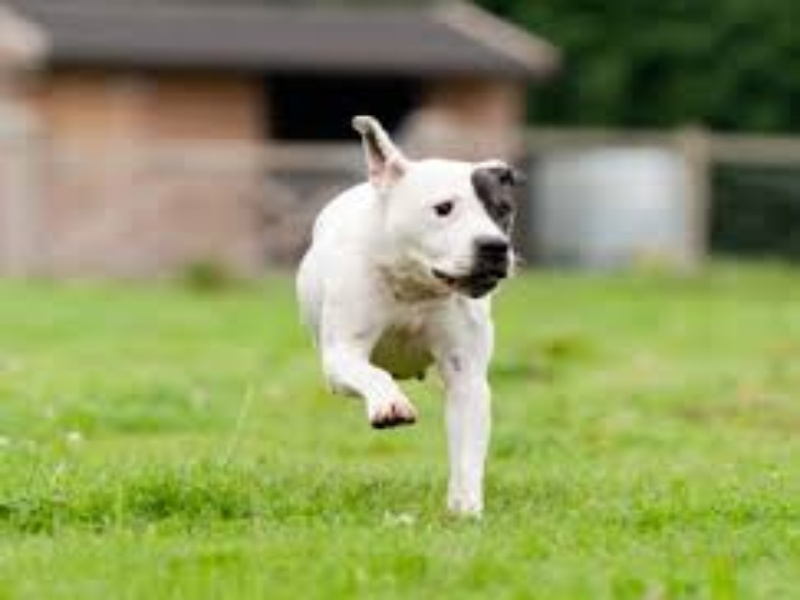dog: (285, 110, 521, 525)
